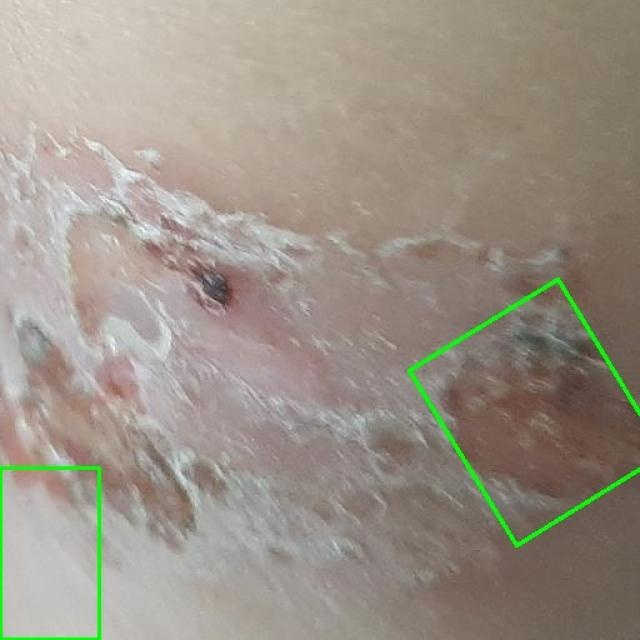Contact Dermatitis: (410, 280, 640, 546), (0, 468, 99, 639)
